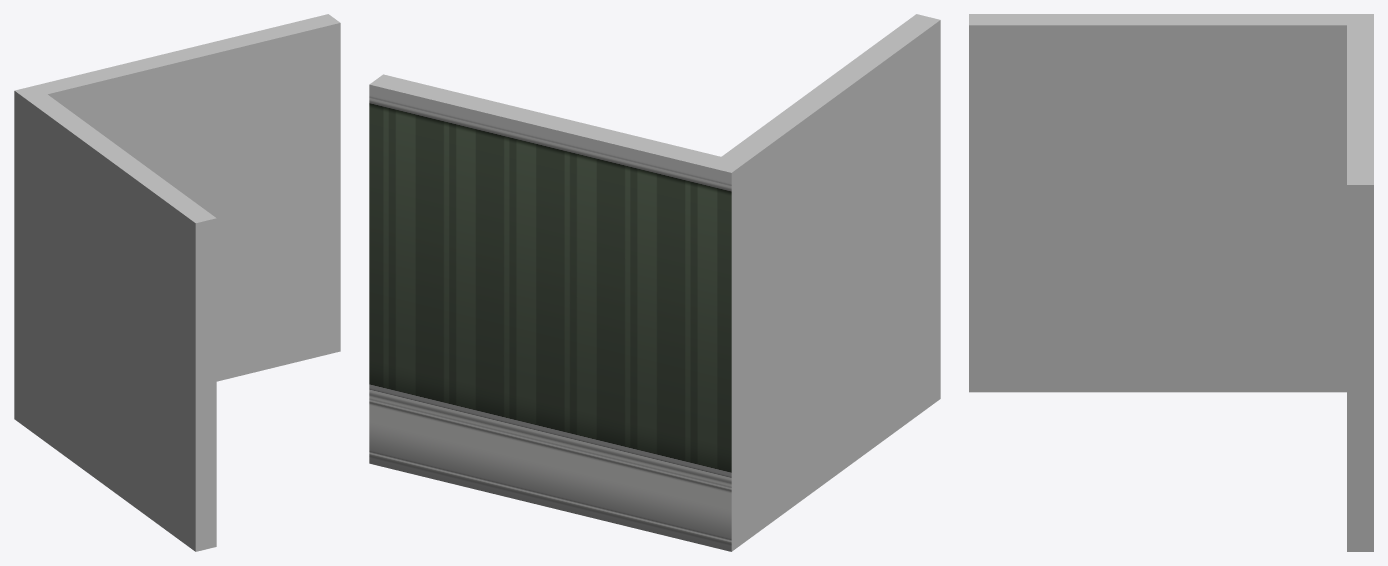
Rendered from wall01_corner_A.fbx.
3 views of the same model, side by side, from view 1: azimuth 30°, elevation 25°; view 2: azimuth 150°, elevation 25°; view 3: azimuth 270°, elevation 25° (orthographic). The views are drawn at different scales.
Parts seen in each view (by area): view 1: wall01_corner_A; view 2: wall01_corner_A; view 3: wall01_corner_A.
Boxes of the visible parts, x1,y1,x2,y2 form: wall01_corner_A: (14,14,340,551); wall01_corner_A: (369,14,940,551); wall01_corner_A: (969,14,1373,551).
Size of the model in its own units: 300 by 300 by 300.
